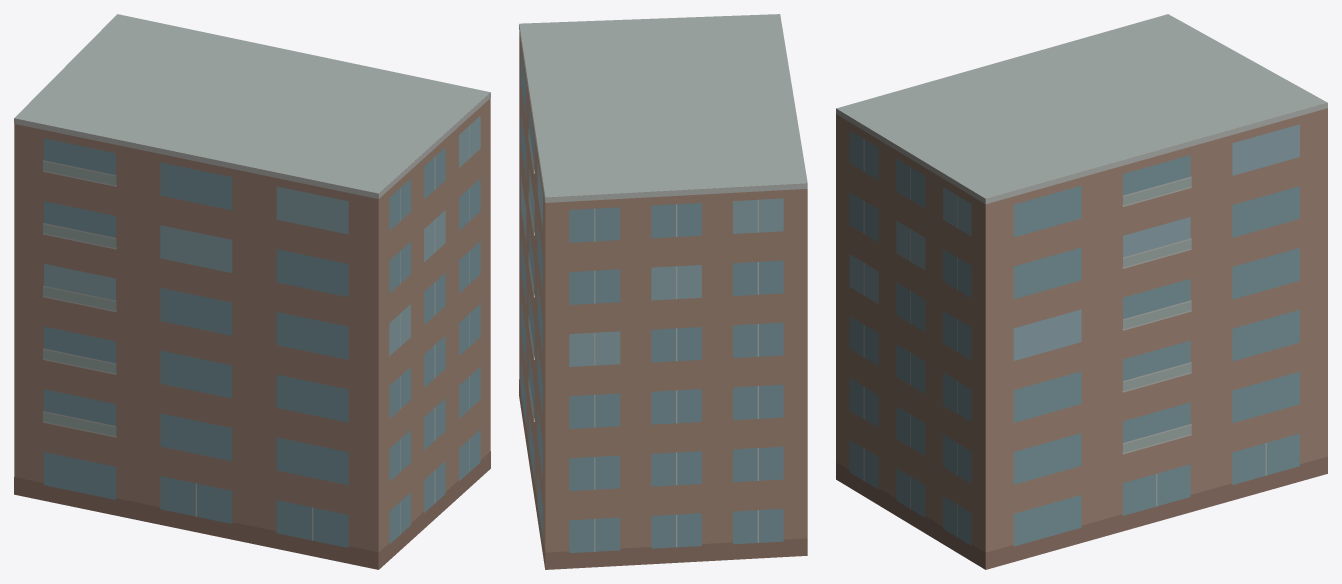
Rendered from survey-upis-32878076.glb.
The picture shows the model from 3 angles, left to right: view 1: azimuth 30°, elevation 25°; view 2: azimuth 150°, elevation 25°; view 3: azimuth 270°, elevation 25°; orthographic projection.
Visible parts, largest first — view 1: survey-upis-32878076.tmp; view 2: survey-upis-32878076.tmp; view 3: survey-upis-32878076.tmp.
Part boxes in pixels (x1,y1,x2,y2): survey-upis-32878076.tmp: (14,14,490,569); survey-upis-32878076.tmp: (519,14,807,569); survey-upis-32878076.tmp: (836,14,1327,569).
Bounding box in the file's own units: 17.74 × 16.6 × 19.95.
